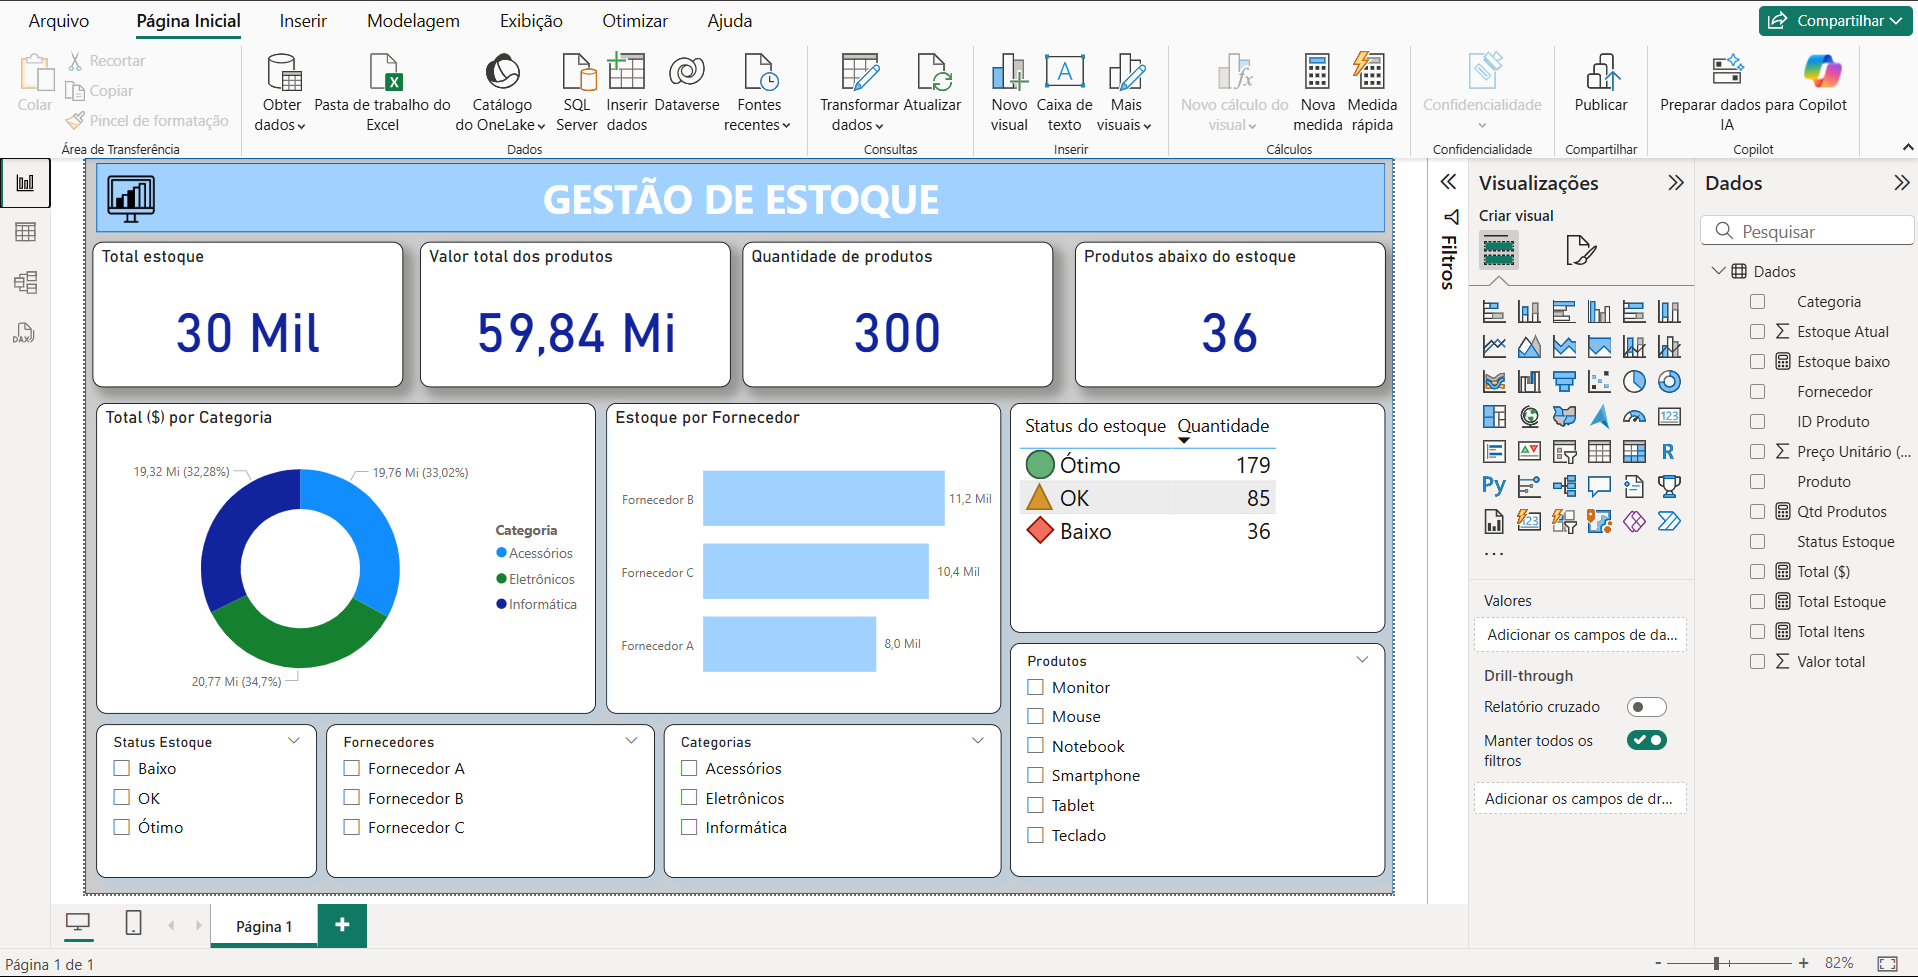

The dashboard page shown, as its layout file describes it:
{"tool":"powerbi","page":{"name":"Página 1","canvas":[1280,720],"ordinal":0},"visuals":[{"type":"shape","box":[0,0,1280,720],"z":0},{"type":"card","title":"Total estoque","fields":{"Values":["Dados.Total Estoque (R$)"]},"box":[7.5,82.5,303.8,142.5],"z":1000},{"type":"card","title":"Valor total dos produtos","fields":{"Values":["Dados.Total ($)"]},"box":[327.5,82.5,303.8,142.5],"z":2000},{"type":"card","title":"Quantidade de produtos","fields":{"Values":["Dados.Qtd Produtos"]},"box":[643.8,82.5,303.8,142.5],"z":3000},{"type":"card","title":"Produtos abaixo do estoque","fields":{"Values":["Dados.Estoque baixo"]},"box":[968.8,82.5,303.8,142.5],"z":4000},{"type":"barChart","fields":{"Category":["Dados.Fornecedor"],"Y":["Dados.Total Estoque"]},"box":[510,240,386.2,303.8],"z":5000},{"type":"donutChart","fields":{"Y":["Dados.Total ($)"],"Series":["Dados.Categoria"]},"box":[11.2,240,488.8,303.8],"z":6000},{"type":"tableEx","fields":{"Values":["Dados.Status Estoque","Dados.Qtd Produtos"]},"box":[905,240,367.5,225],"z":7000},{"type":"slicer","fields":{"Values":["Dados.Status Estoque"]},"box":[11.2,553.8,216.2,150],"z":8000},{"type":"slicer","fields":{"Values":["Dados.Fornecedor"]},"box":[236.2,553.8,321.2,150],"z":9000},{"type":"shape","box":[11.1,4.4,1261.1,67.8],"z":10000},{"type":"slicer","fields":{"Values":["Dados.Categoria"]},"box":[566.2,553.8,330,150],"z":11000},{"type":"slicer","fields":{"Values":["Dados.Produto"]},"box":[905,475,367.5,228.8],"z":12000},{"type":"image","box":[17.5,12.5,56.2,56.2],"z":13000}]}

Visuals, with their boxes on the page's 1280x720 design canvas (x1, y1, x2, y2). These are canvas units, not pixel positions in the 1918x977 screenshot, which may show the page scaled, cropped or inside an application window:
shape: 0, 0, 1280, 720
"Total estoque" card: 8, 82, 311, 225
"Valor total dos produtos" card: 328, 82, 631, 225
"Quantidade de produtos" card: 644, 82, 948, 225
"Produtos abaixo do estoque" card: 969, 82, 1273, 225
barChart - Dados.Fornecedor x Dados.Total Estoque: 510, 240, 896, 544
donutChart - Dados.Total ($) x Dados.Categoria: 11, 240, 500, 544
tableEx - Dados.Status Estoque x Dados.Qtd Produtos: 905, 240, 1272, 465
slicer - Dados.Status Estoque: 11, 554, 227, 704
slicer - Dados.Fornecedor: 236, 554, 557, 704
shape: 11, 4, 1272, 72
slicer - Dados.Categoria: 566, 554, 896, 704
slicer - Dados.Produto: 905, 475, 1272, 704
image: 18, 12, 74, 69
